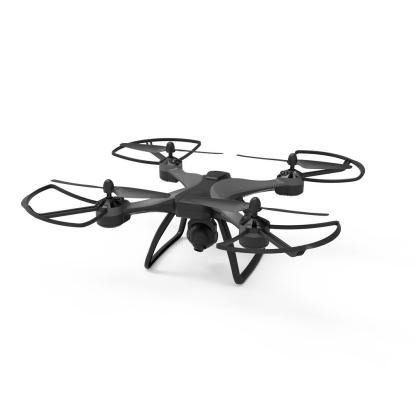drone: (21, 120, 398, 275)
